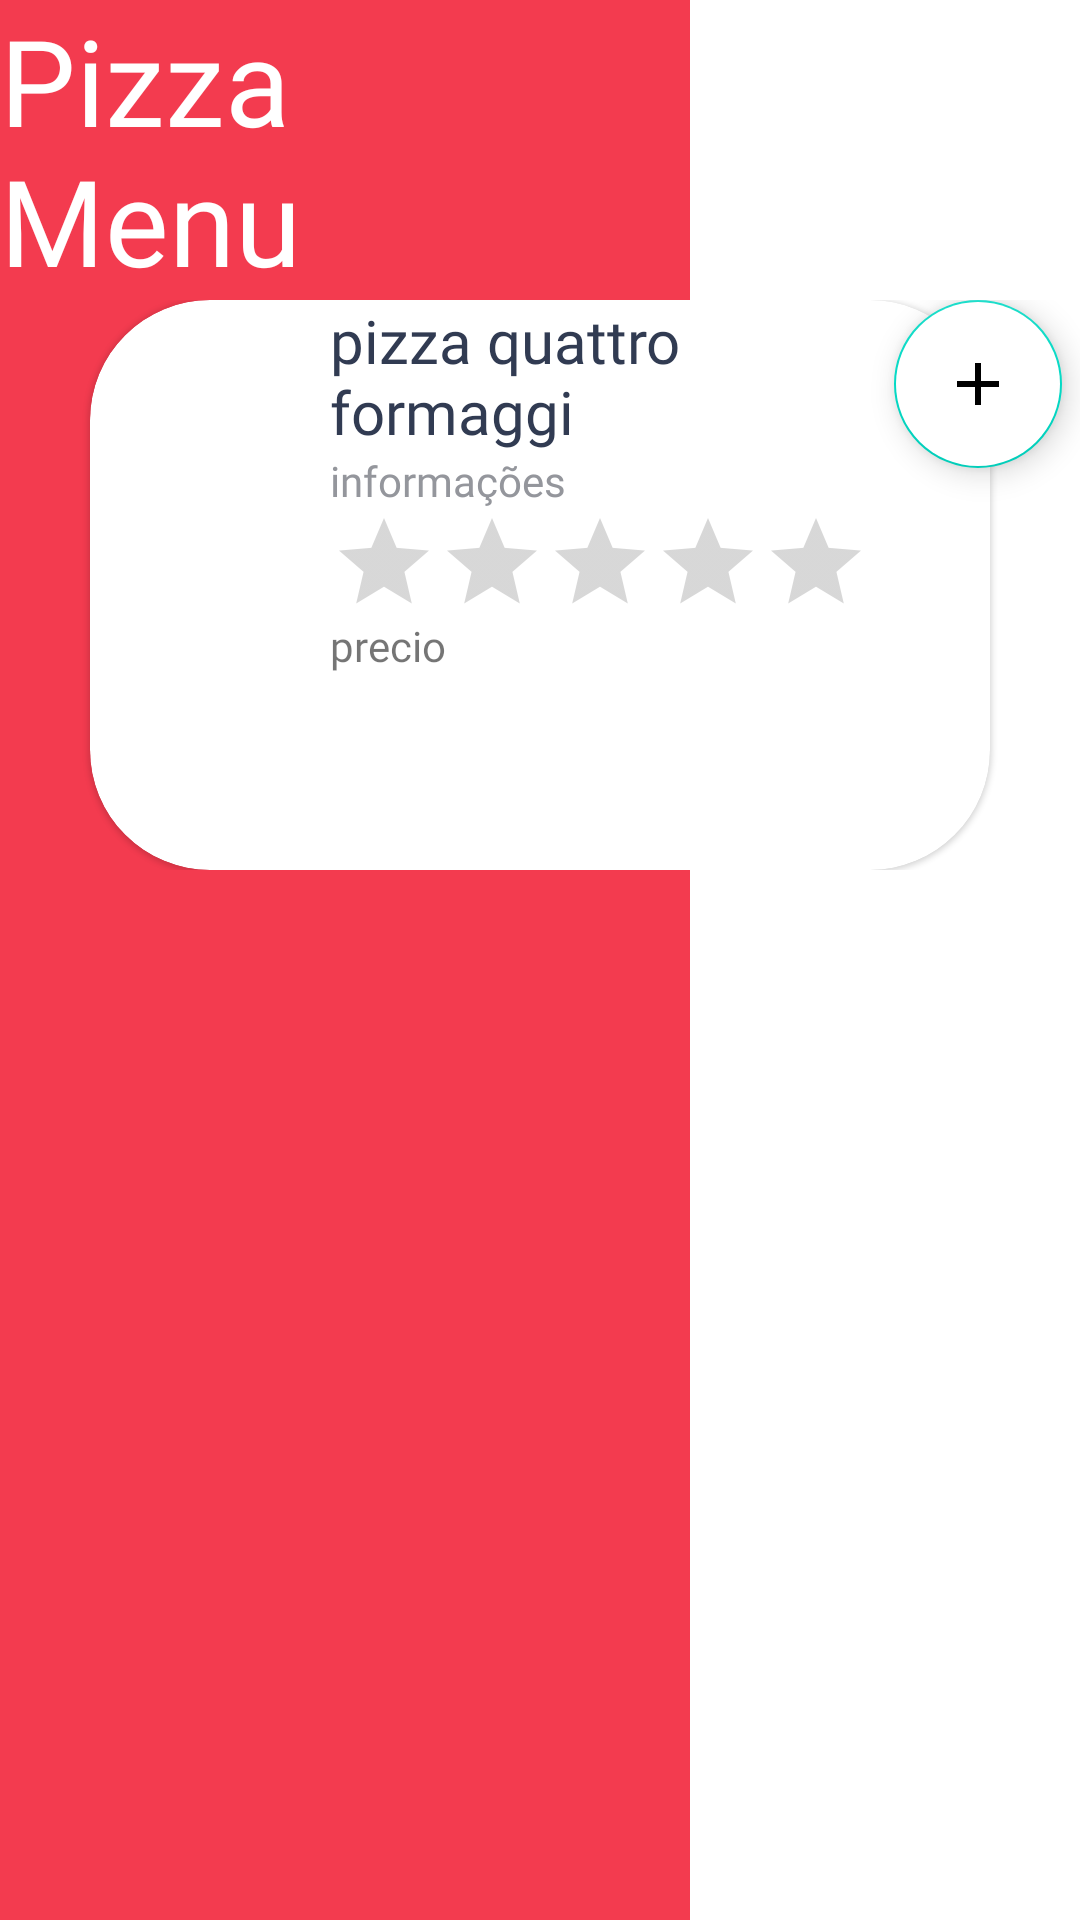

Screen size 1080*1920. Icon name, then its center in pixels as (x=x, y=y):
add: (x=978, y=384)
